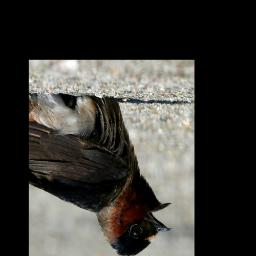Swallow: (29, 90, 174, 256)
